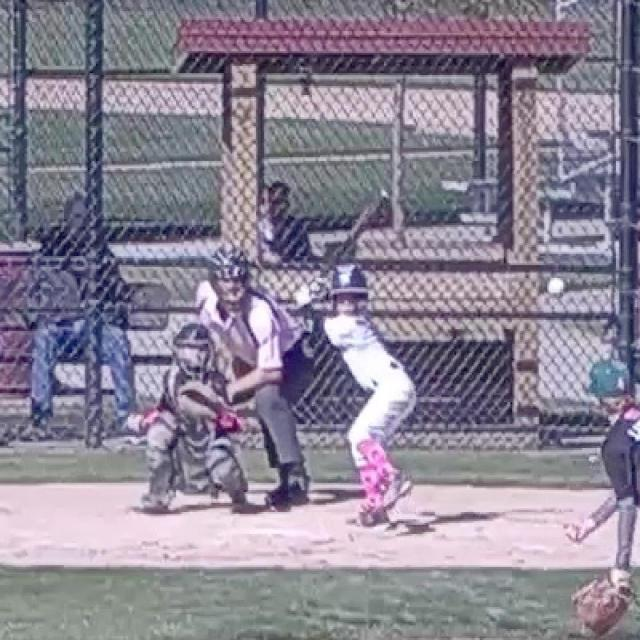baseball: (548, 279, 564, 294)
